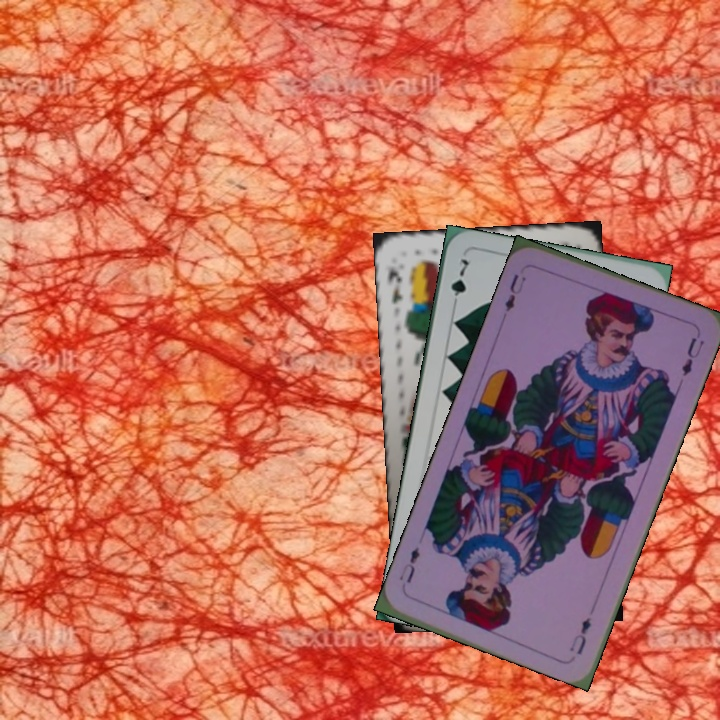EK: (383, 263, 405, 307)
EU: (565, 613, 594, 658), (500, 270, 529, 314)
G7: (446, 255, 472, 312)
